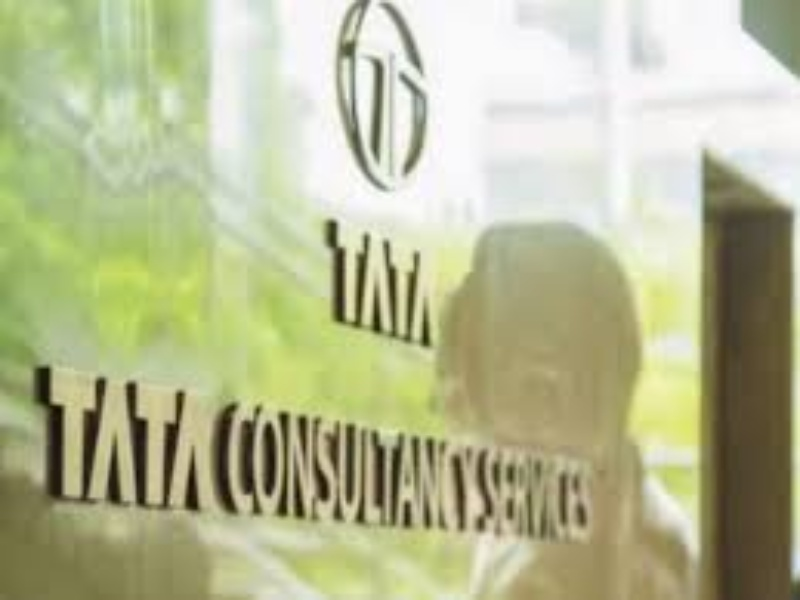tcs: (336, 1, 435, 195)
